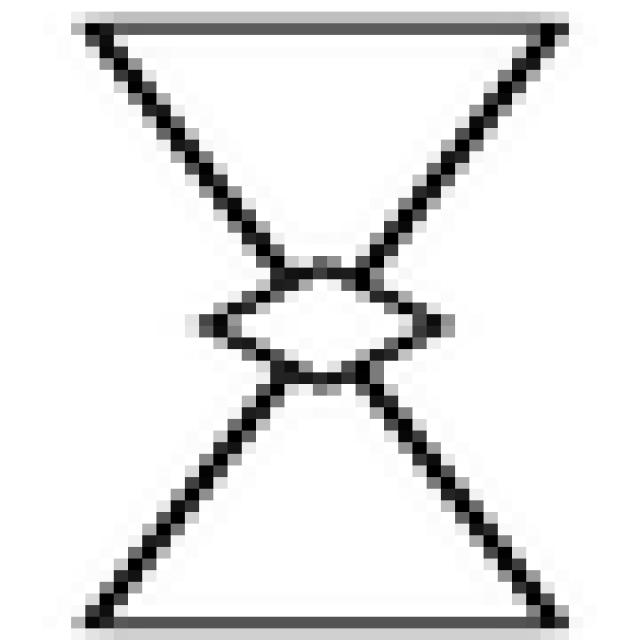Plug Valve: (90, 20, 565, 626)
